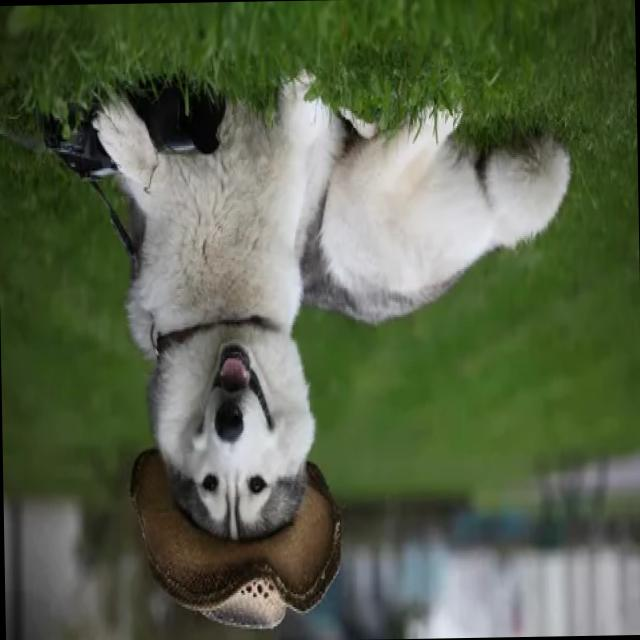Dog: (142, 158, 324, 538)
